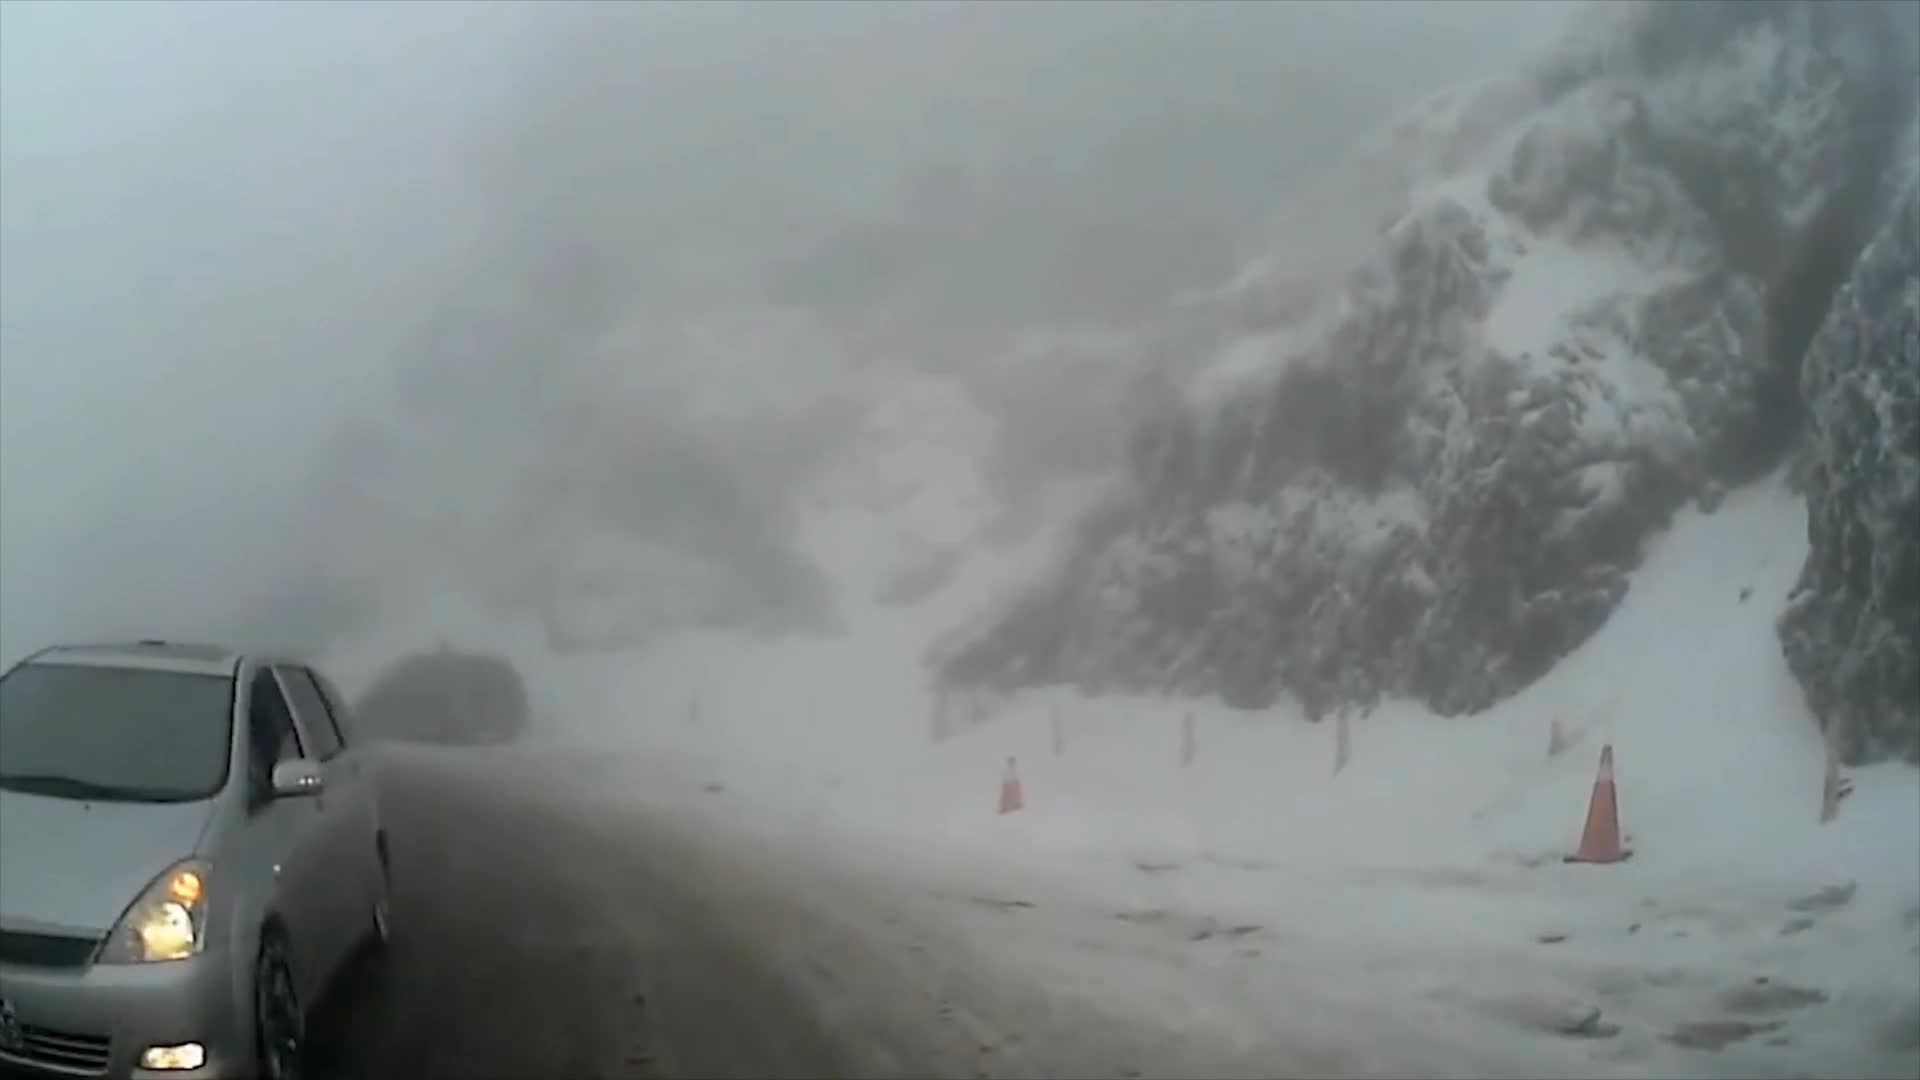vehicle: (0, 636, 400, 1080)
